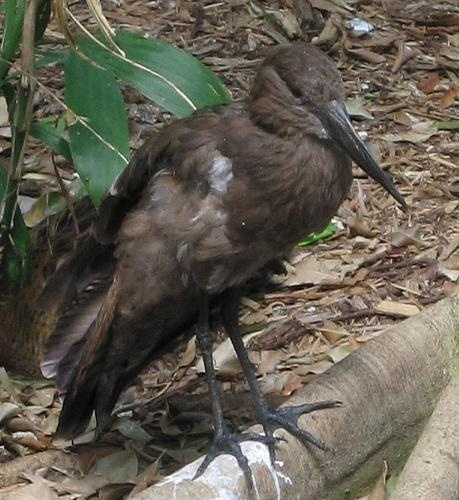bird: (34, 39, 418, 480)
